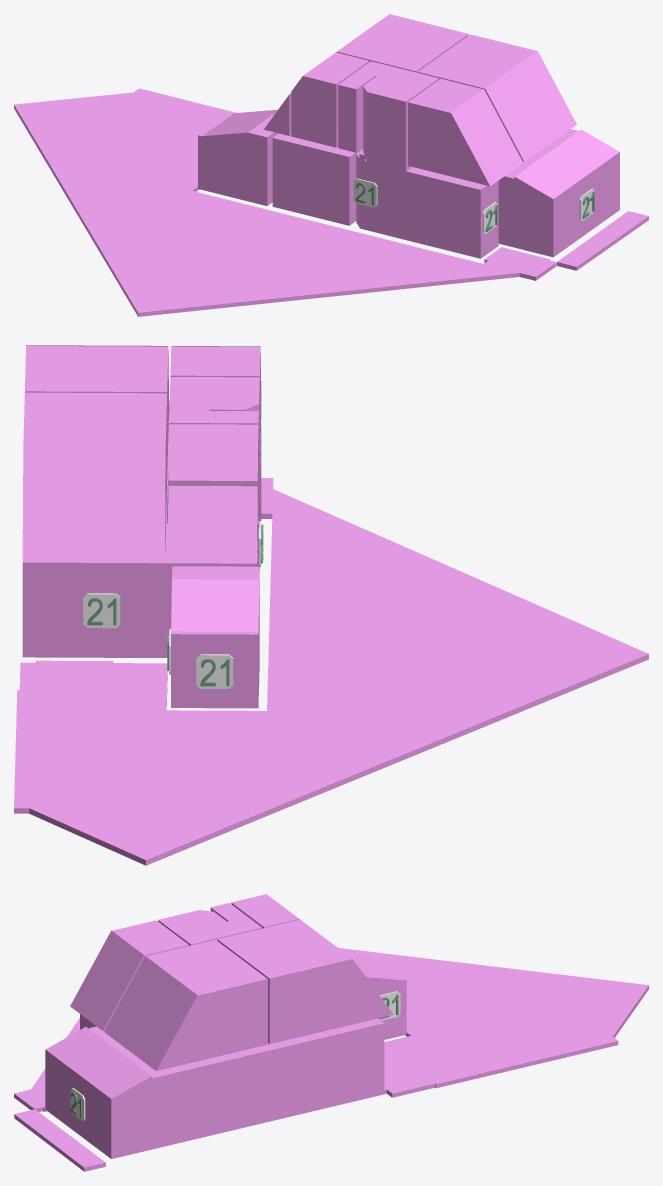
The picture shows the model from 3 angles, top to bottom: view 1: azimuth 30°, elevation 25°; view 2: azimuth 150°, elevation 25°; view 3: azimuth 270°, elevation 25°; orthographic projection. The views are drawn at different scales.
Parts seen in each view (by area): view 1: g_14, g_15, g_1, g_8, g_9, g_4, g_0, g_5, g_7, g_6, g_11, g_2 (+4 smaller); view 2: g_14, g_15, g_7, g_0, g_5, g_8, g_12, g_6, g_9, g_10, g_11, g_30 (+1 smaller); view 3: g_1, g_15, g_8, g_7, g_0, g_9, g_14, g_13, g_5, g_10, g_6, g_11.
Boxes of the visible parts, <box> form: g_14: <box>43,153,556,316</box>; g_15: <box>14,88,236,191</box>; g_1: <box>498,129,619,257</box>; g_8: <box>418,34,576,161</box>; g_9: <box>408,78,523,186</box>; g_4: <box>408,167,498,258</box>; g_0: <box>272,133,363,225</box>; g_5: <box>198,109,278,205</box>; g_7: <box>336,14,468,72</box>; g_6: <box>291,52,369,147</box>; g_11: <box>363,76,419,165</box>; g_2: <box>356,149,414,240</box>; g_14: <box>261,478,648,816</box>; g_15: <box>14,660,266,865</box>; g_7: <box>22,392,166,560</box>; g_0: <box>22,510,258,657</box>; g_5: <box>171,566,259,708</box>; g_8: <box>25,345,169,479</box>; g_12: <box>167,485,257,561</box>; g_6: <box>168,424,258,540</box>; g_9: <box>170,346,261,455</box>; g_10: <box>169,377,258,503</box>; g_11: <box>209,377,259,491</box>; g_30: <box>83,593,120,628</box>; g_1: <box>45,1026,302,1158</box>; g_15: <box>384,971,648,1097</box>; g_8: <box>104,940,267,1070</box>; g_7: <box>217,919,393,1043</box>; g_0: <box>297,1018,384,1113</box>; g_9: <box>70,920,189,1030</box>; g_14: <box>14,948,528,1111</box>; g_13: <box>14,1109,105,1171</box>; g_5: <box>346,954,406,1039</box>; g_10: <box>171,903,262,945</box>; g_6: <box>231,894,299,928</box>; g_11: <box>158,910,226,930</box>.
Size of the model in its own units: 18.88 by 5.36 by 20.83.
